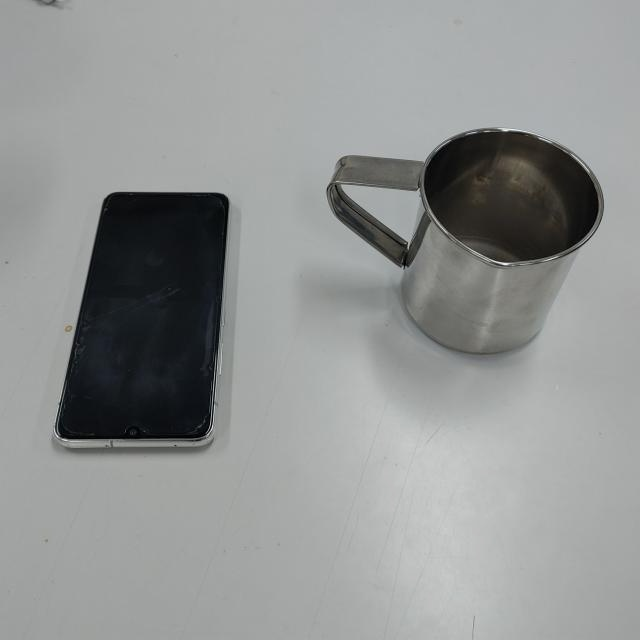cup: (326, 121, 604, 357)
phone: (51, 189, 232, 452)
